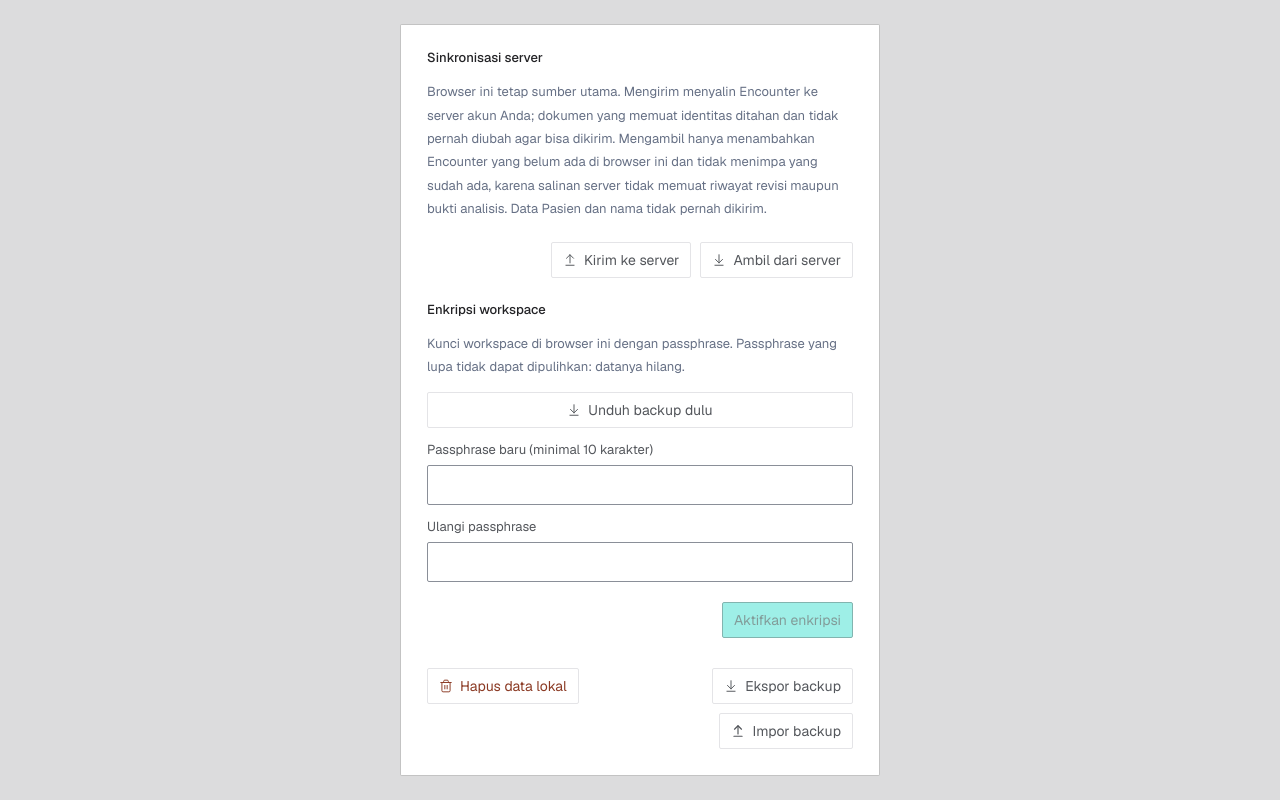
Test: final review fixes › shows why enabling failed
The width and height of the screenshot is (1280, 800).
(page scrolled)
Click the button "Unduh backup dulu": x=640, y=410 [427,392,853,428]
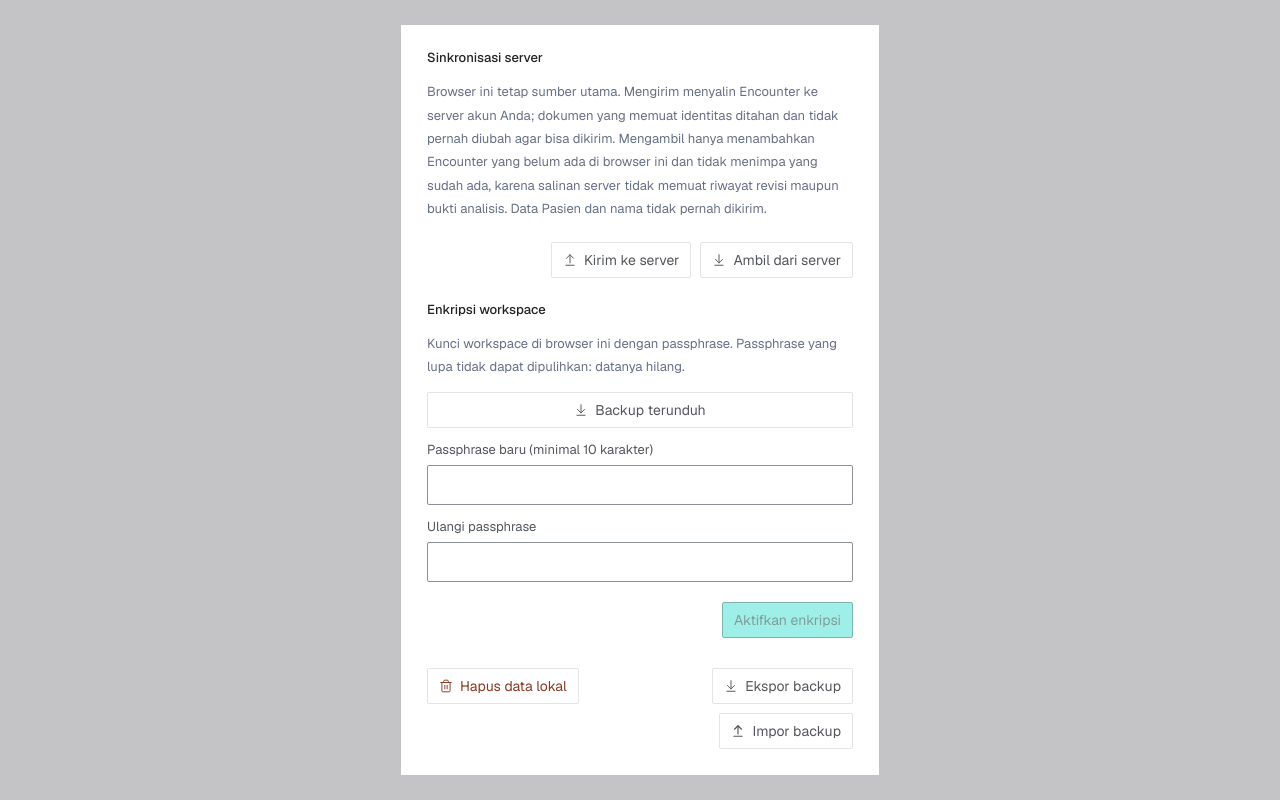
In the password field labelled "Passphrase baru": x=640, y=485 [427,465,853,505], type "passphrase-uji-1"
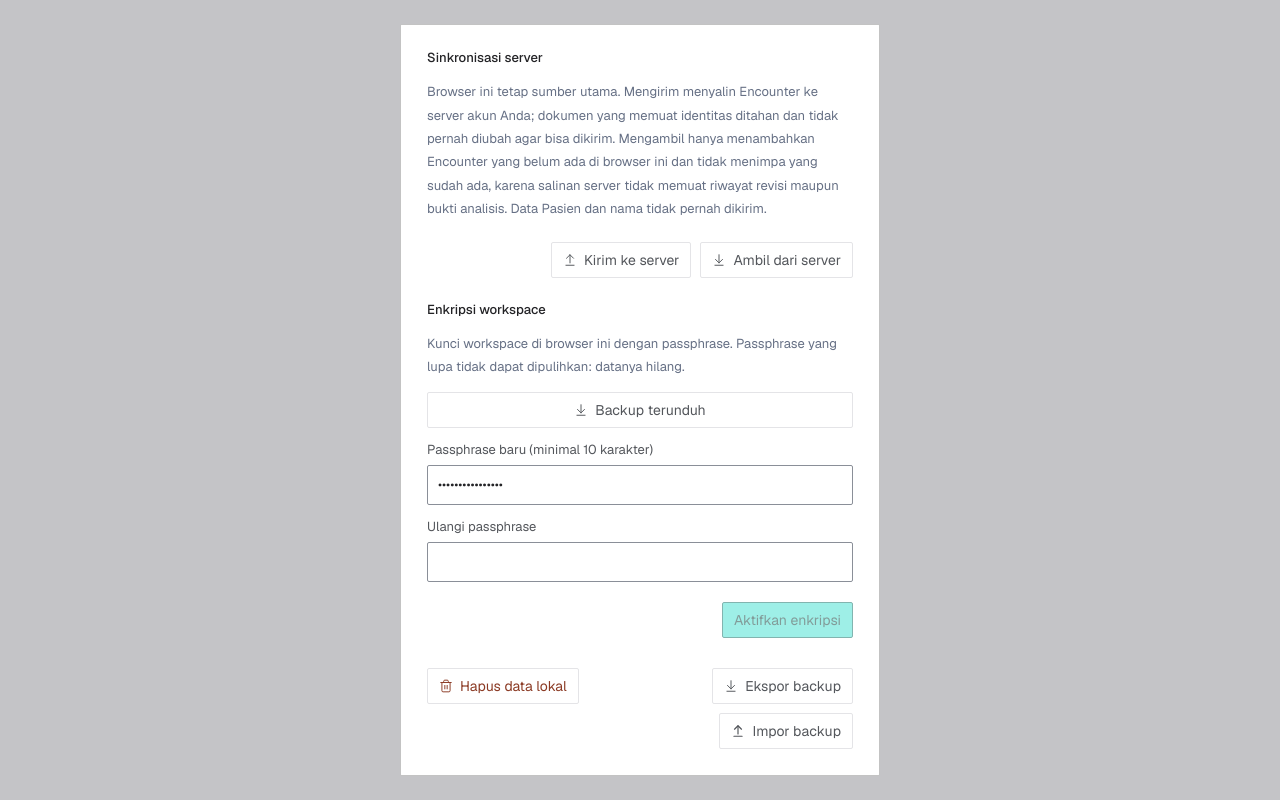
In the password field labelled "Ulangi passphrase": x=640, y=562 [427,542,853,582], type "passphrase-uji-1"
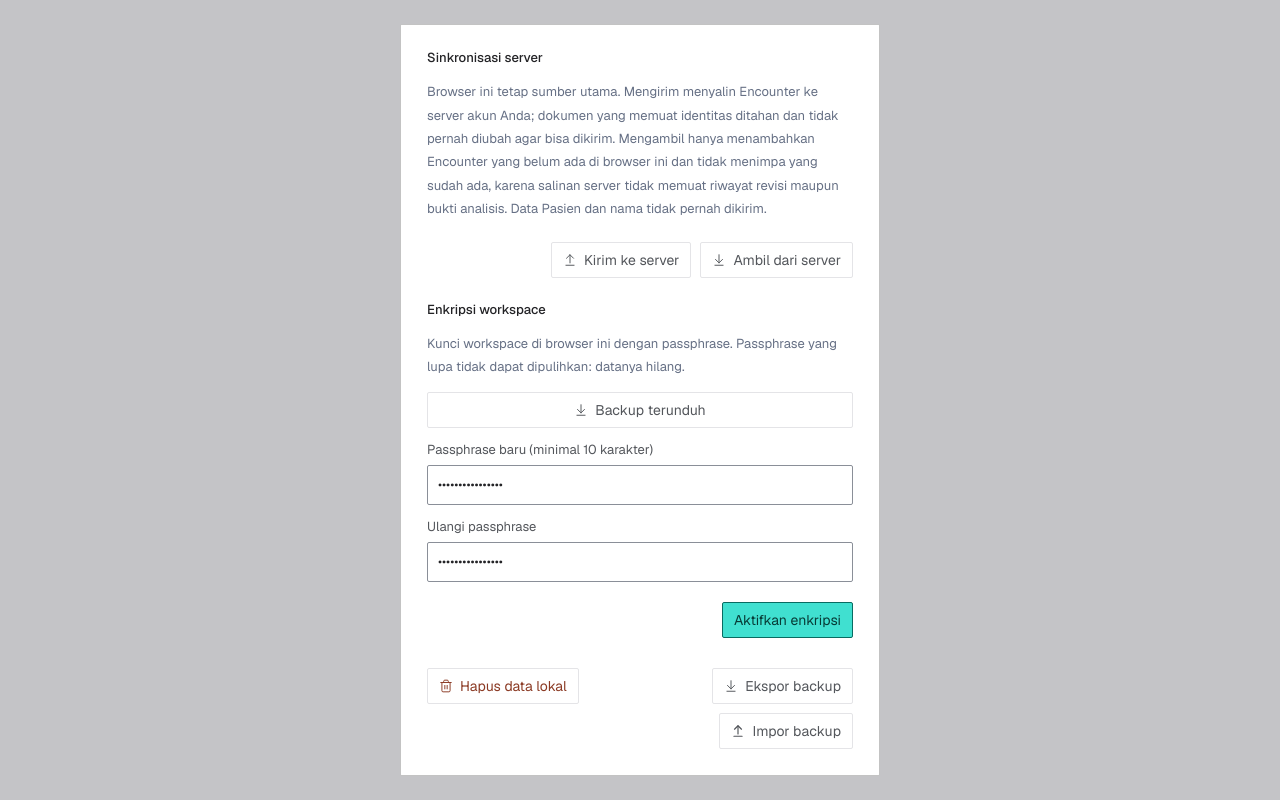
Click the button "Aktifkan enkripsi": x=787, y=620 [722,602,853,638]
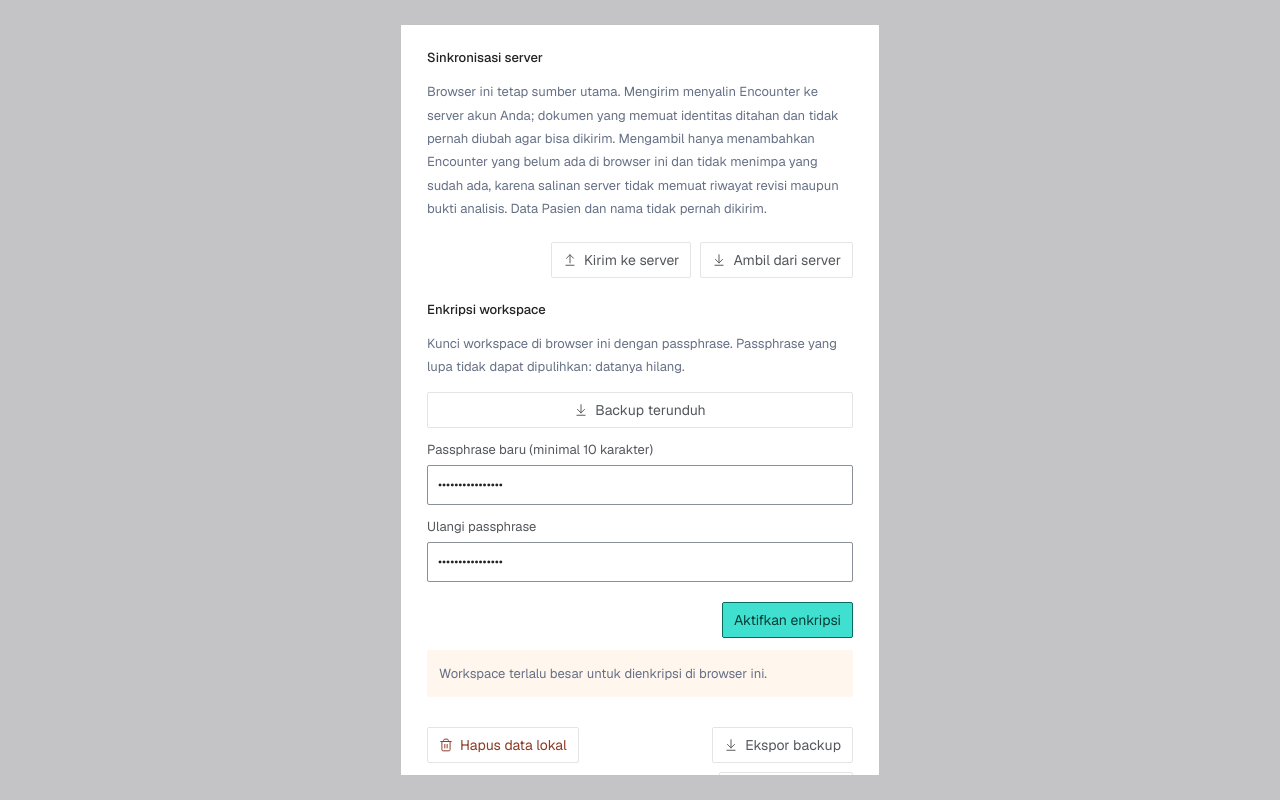
Expected: the message shows "terlalu besar", [439,665,767,682]
